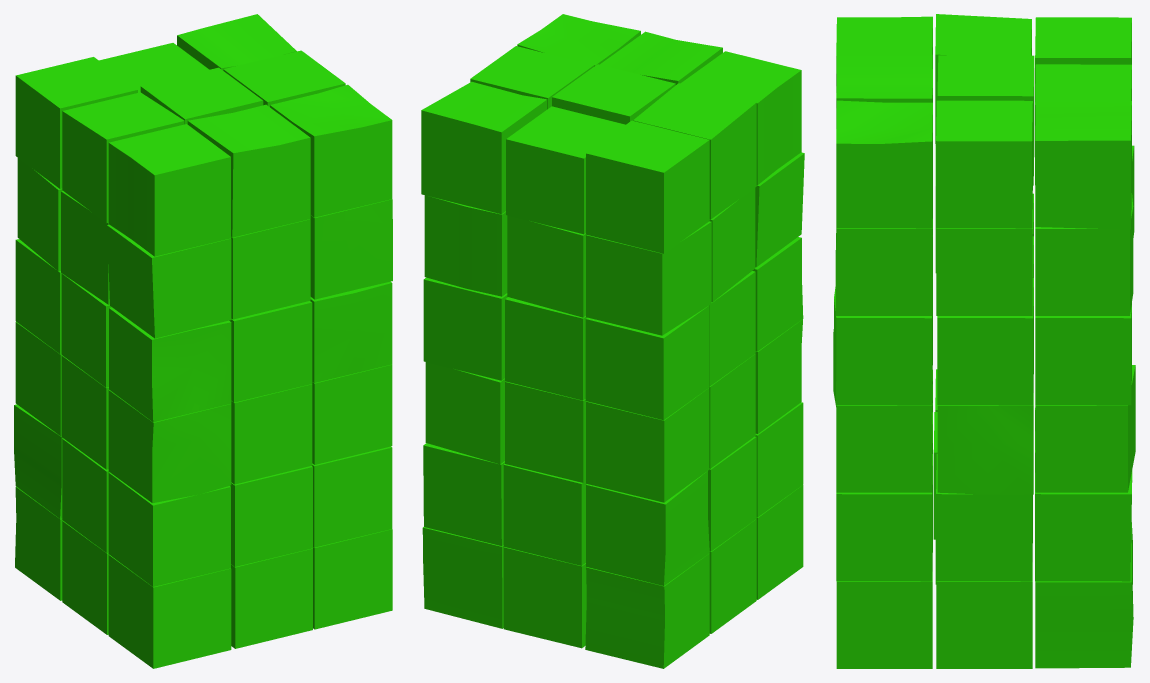
Rendered from Cardboard_Pile_04.fbx.
The picture shows the model from 3 angles, left to right: view 1: azimuth 30°, elevation 25°; view 2: azimuth 150°, elevation 25°; view 3: azimuth 270°, elevation 25°; orthographic projection. The views are drawn at different scales.
Parts seen in each view (by area): view 1: Cardboard_Pile_04; view 2: Cardboard_Pile_04; view 3: Cardboard_Pile_04.
Part boxes in pixels (box(x1,y1,x2,y2)): Cardboard_Pile_04: box(14, 14, 392, 668); Cardboard_Pile_04: box(421, 14, 804, 668); Cardboard_Pile_04: box(833, 14, 1135, 668).
Size of the model in its own units: 121 by 235 by 121.
